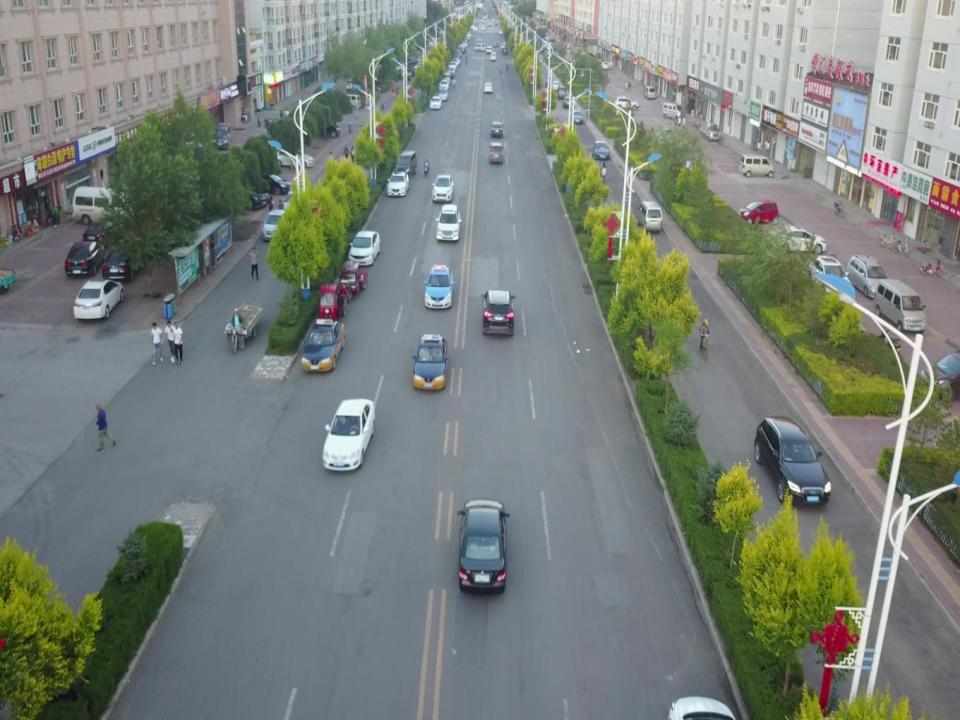car: (755, 413, 830, 508), (459, 501, 507, 595), (321, 396, 377, 474), (302, 318, 345, 372), (72, 278, 126, 321), (411, 334, 449, 392), (846, 252, 890, 300), (809, 255, 852, 299), (480, 289, 516, 337), (65, 239, 106, 281), (102, 244, 146, 281), (224, 178, 270, 212), (771, 226, 825, 254), (423, 264, 454, 310), (347, 230, 381, 267), (82, 218, 123, 246), (95, 405, 118, 451), (249, 172, 292, 195), (435, 204, 461, 242), (738, 200, 779, 224), (262, 209, 288, 242), (274, 147, 314, 167), (431, 175, 454, 203), (308, 120, 342, 138), (386, 172, 410, 196), (592, 140, 609, 159), (615, 97, 638, 110), (489, 122, 503, 138), (571, 111, 582, 123), (346, 79, 357, 91), (562, 98, 573, 107), (484, 82, 492, 93), (551, 82, 560, 90), (500, 43, 509, 49), (486, 46, 492, 54), (502, 47, 508, 54), (491, 53, 496, 61), (493, 41, 497, 48)
truck: (339, 262, 368, 294), (700, 124, 721, 140)
van: (870, 277, 927, 335), (72, 186, 140, 229), (739, 153, 774, 179), (636, 200, 661, 233), (395, 151, 417, 178), (213, 122, 231, 149), (662, 103, 685, 122), (338, 94, 362, 109), (489, 143, 503, 165), (644, 84, 655, 99), (555, 86, 567, 98), (474, 43, 486, 51)
